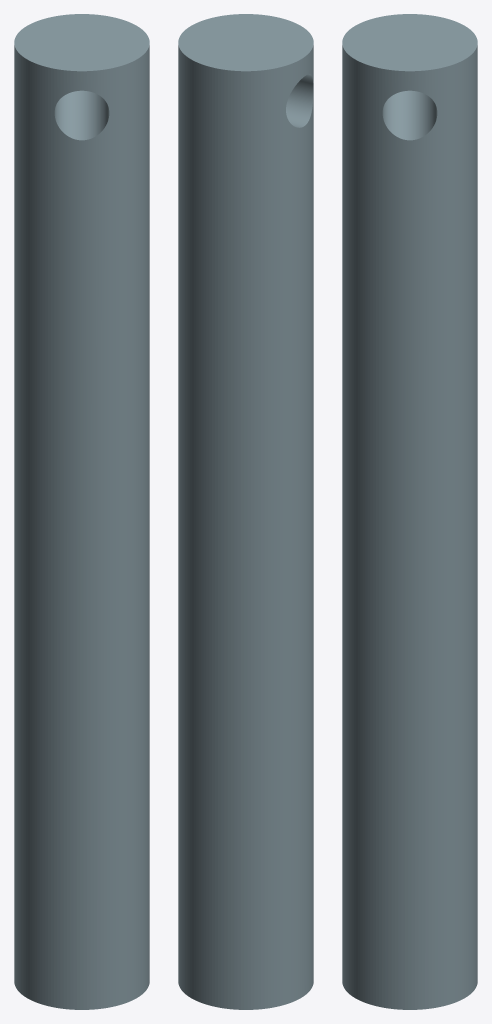
File: actuator_moving_interface.glb
The picture shows the model from 3 angles, left to right: view 1: azimuth 90°, elevation 25°; view 2: azimuth 150°, elevation 25°; view 3: azimuth 270°, elevation 25°; orthographic projection.
Parts seen in each view (by area): view 1: actuator_moving_interface; view 2: actuator_moving_interface; view 3: actuator_moving_interface.
Part boxes in pixels (x1,y1,x2,y2): actuator_moving_interface: [14, 14, 149, 1009]; actuator_moving_interface: [178, 14, 313, 1009]; actuator_moving_interface: [342, 14, 477, 1009].
Size of the model in its own units: 0.0302 by 0.2309 by 0.0302.
